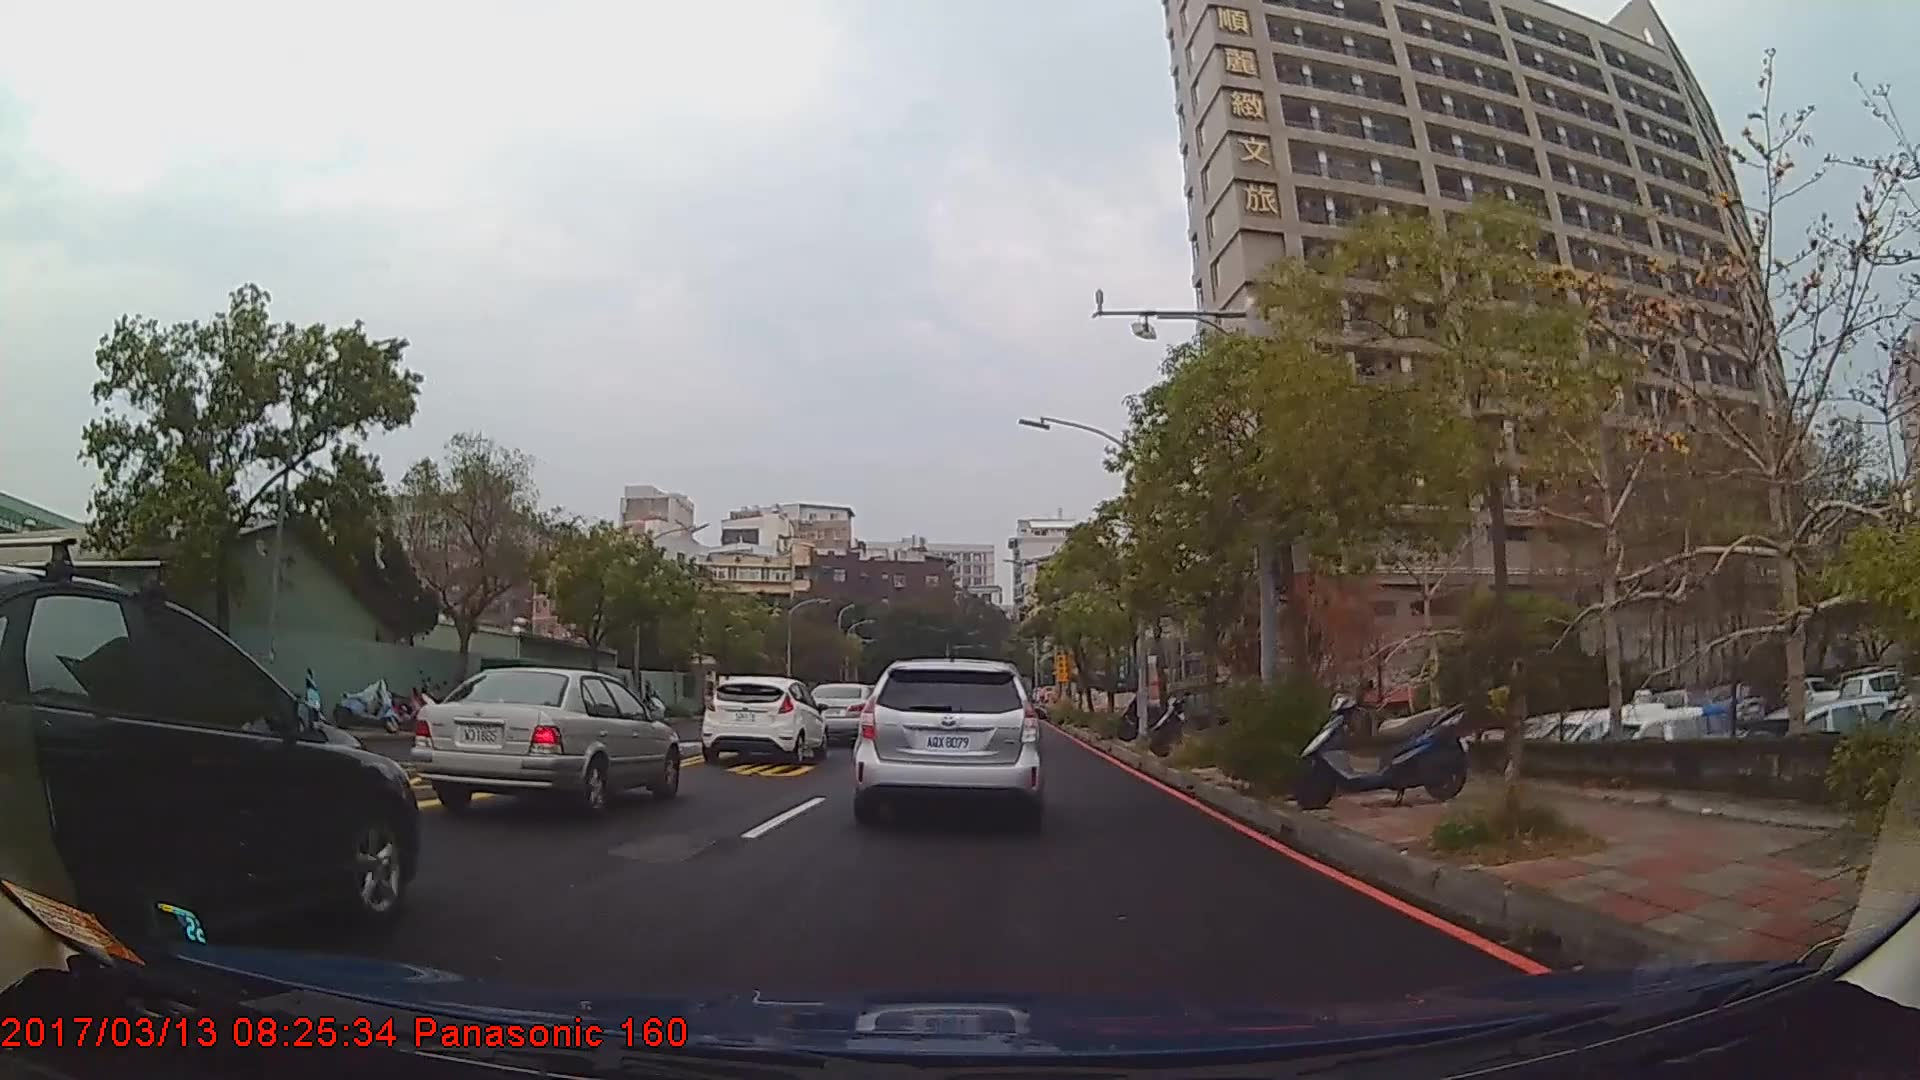vehicle: (0, 564, 419, 965), (410, 666, 680, 818), (851, 659, 1040, 825), (700, 674, 827, 764), (804, 682, 880, 744)
